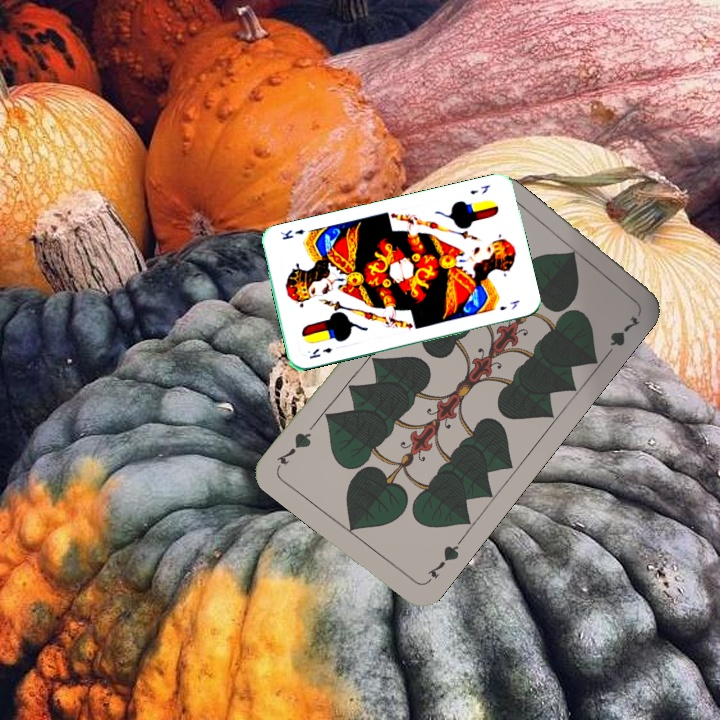EK: (305, 343, 334, 361), (466, 181, 493, 197)
G7: (421, 536, 464, 587)
